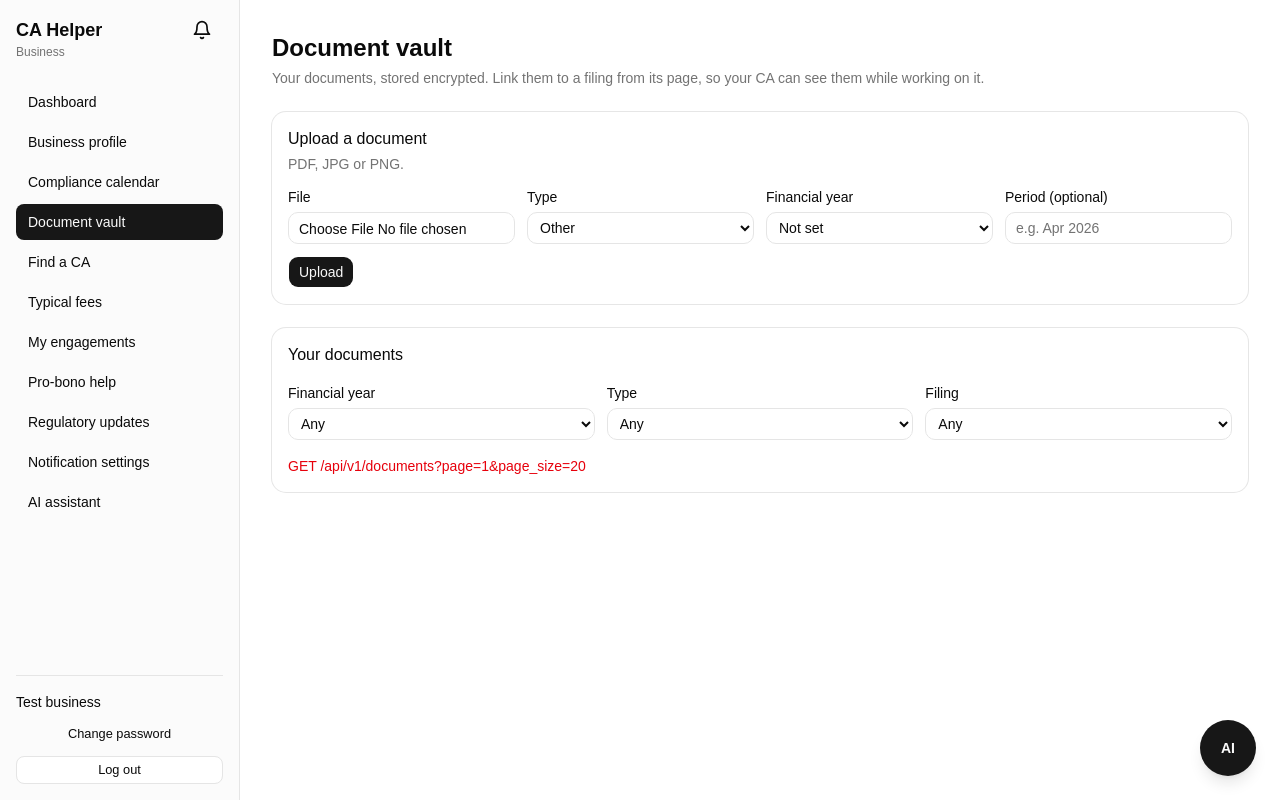
Test: floating AI assistant › opens from the round button on any business page
The image size is (1280, 800).
Click the button with aria-label "Open the AI assistant" at (1228, 748), box [1200, 720, 1256, 776]
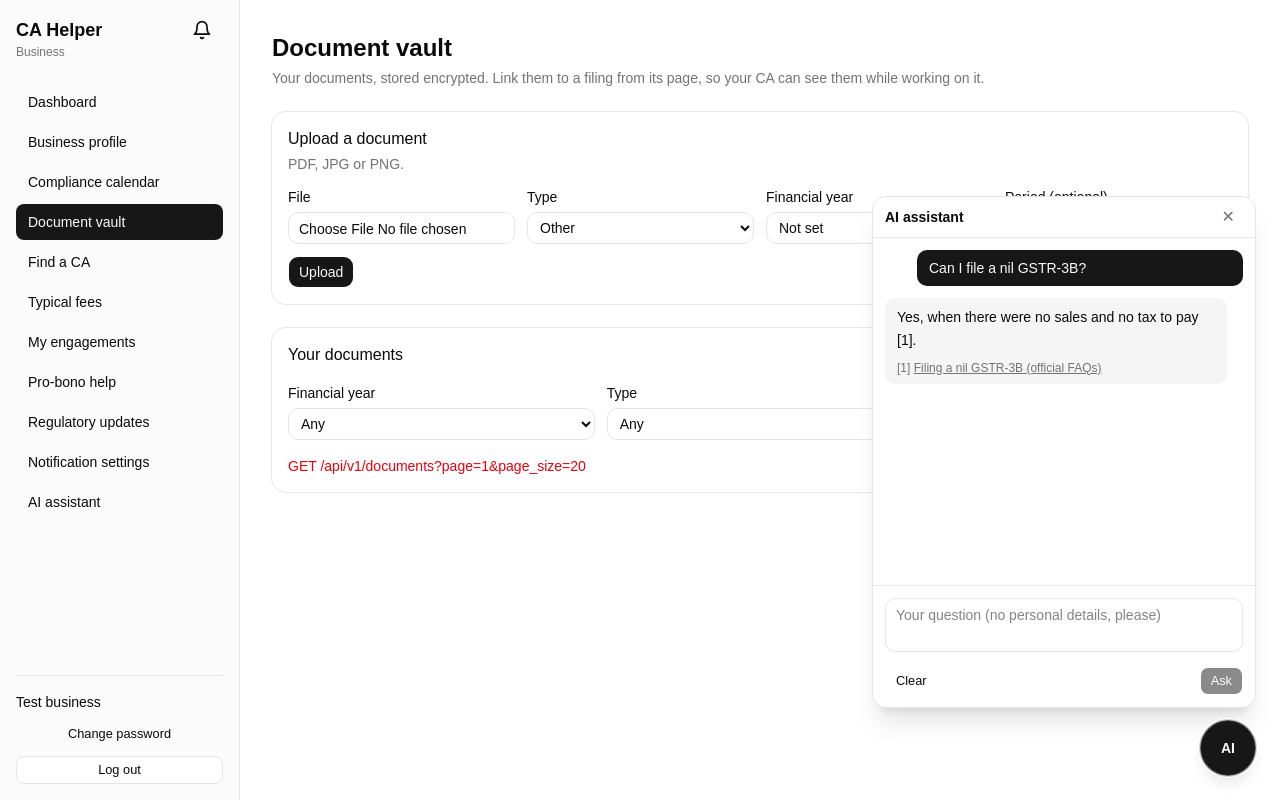
Check: the text "Yes, when there were no sales and no tax to pay [1]." is shown, box [897, 306, 1215, 352]
